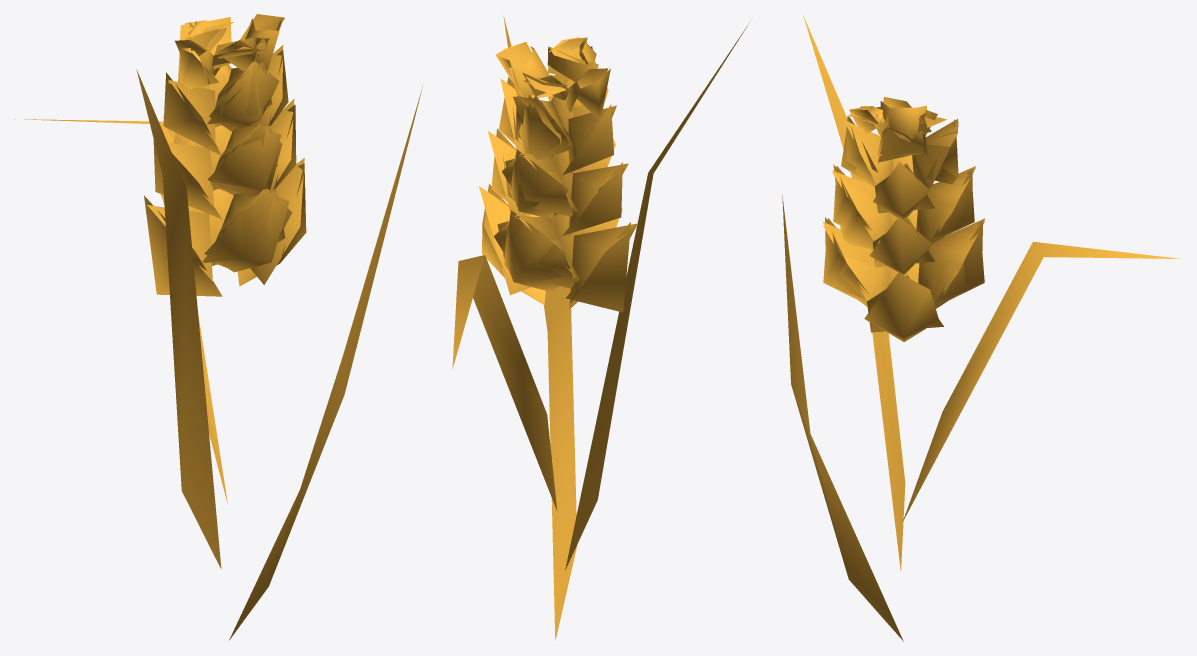
File: Wheat bottom.fbx
3 renders of one model, left to right at view 1: azimuth 30°, elevation 25°; view 2: azimuth 150°, elevation 25°; view 3: azimuth 270°, elevation 25°, orthographic. The views are drawn at different scales.
Parts seen in each view (by area): view 1: Cylinder.001; view 2: Cylinder.001; view 3: Cylinder.001.
Boxes of the visible parts, x1,y1,x2,y2 form: Cylinder.001: (15,14,422,640); Cylinder.001: (452,16,749,640); Cylinder.001: (782,16,1180,641).
Bounding box in the file's own units: 27.11 × 61.38 × 39.45.
